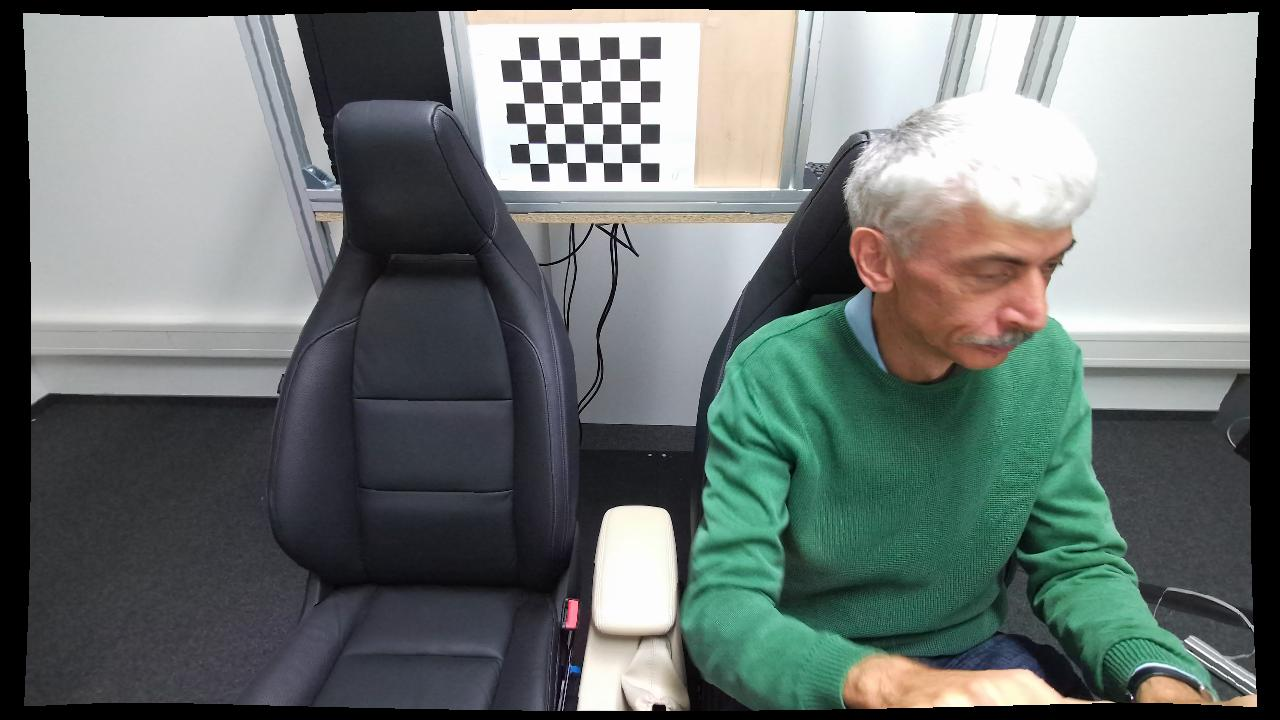Distracted: (674, 88, 1185, 719)
